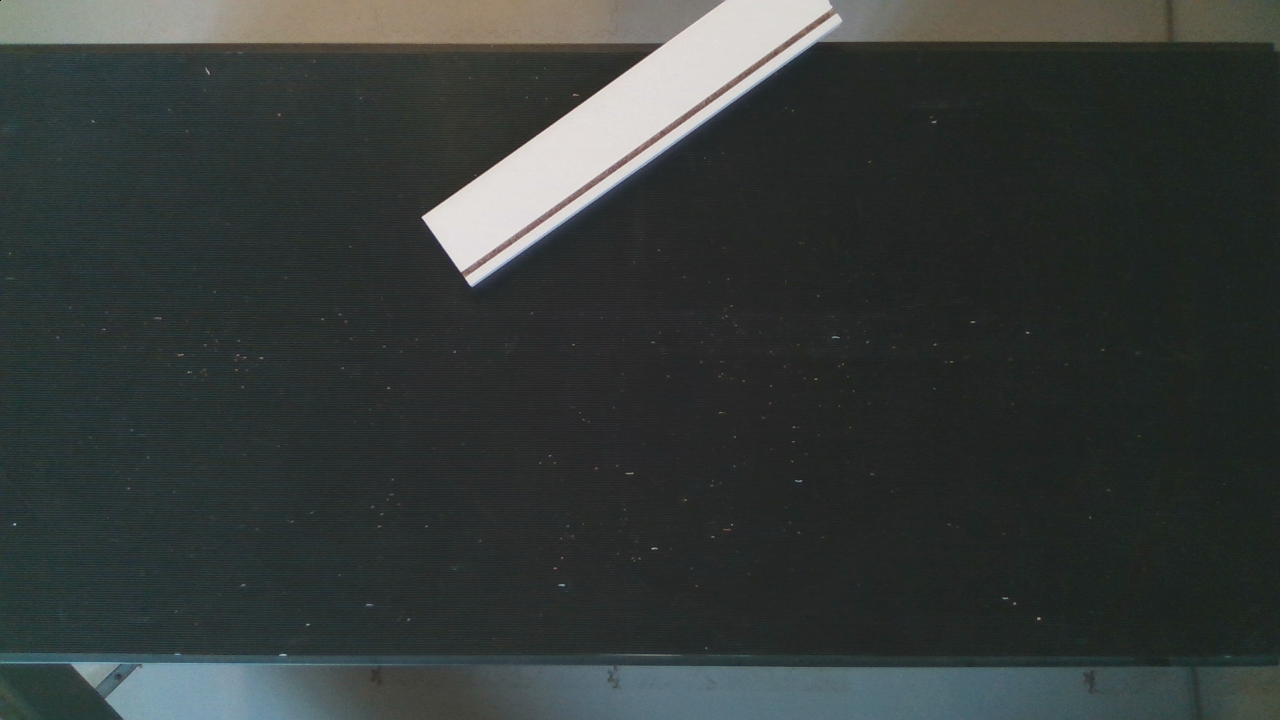part1: (398, 1, 886, 308)
